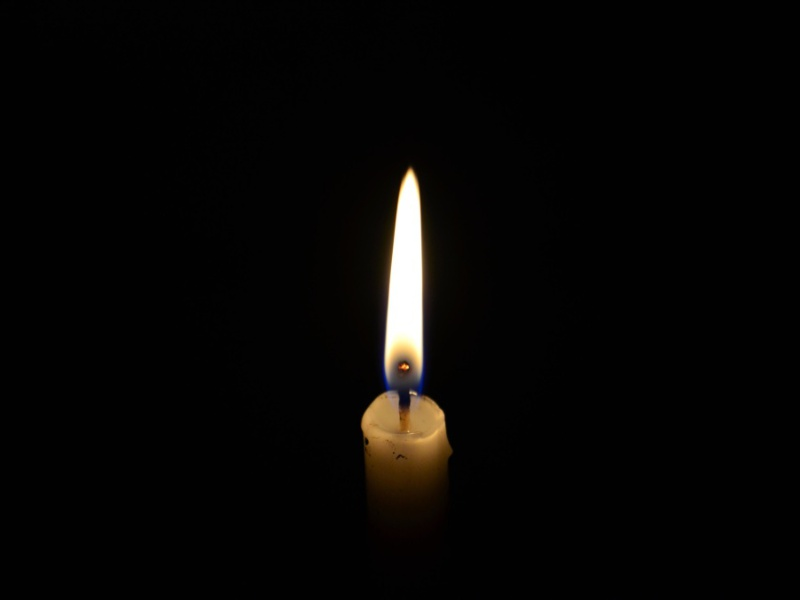fire: (384, 170, 426, 390)
